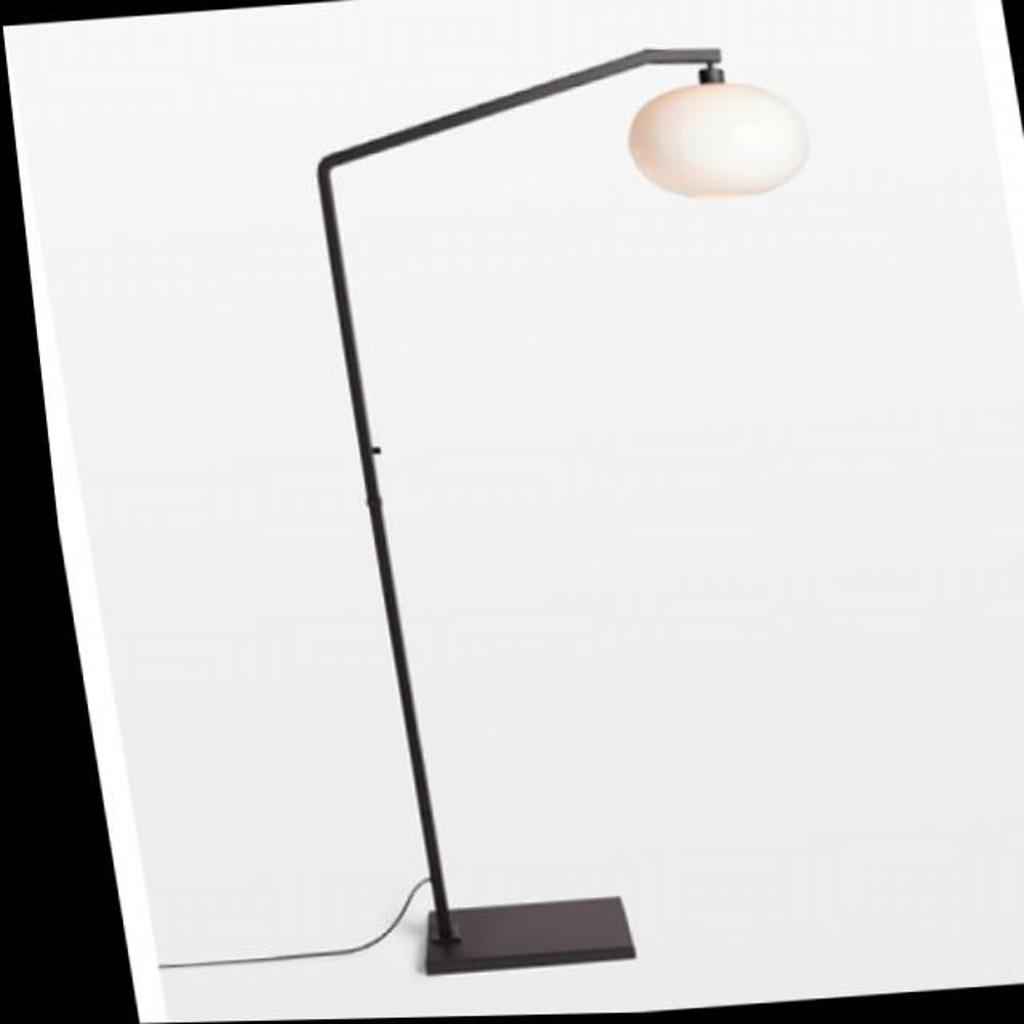shelf: (208, 0, 965, 1009)
